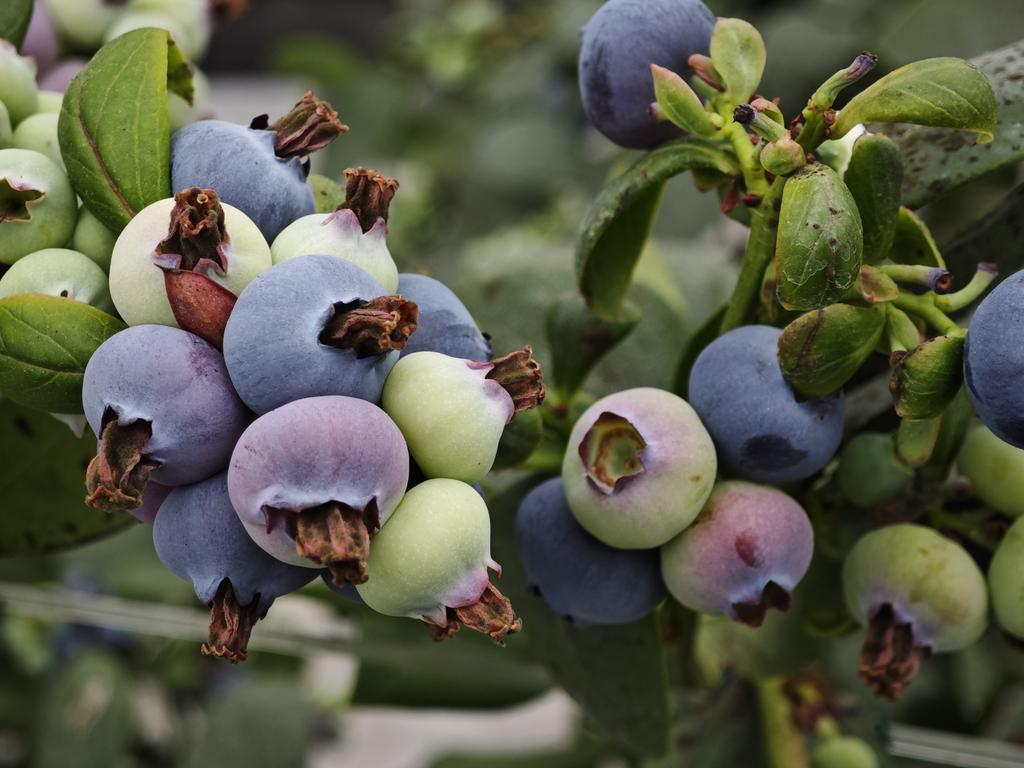RipeBlueBerry: (226, 247, 407, 406), (84, 327, 228, 488)
Semi-RipeBlueBerry: (229, 396, 409, 569), (566, 388, 718, 550)
UnripeBlueBerry: (848, 524, 992, 671)
